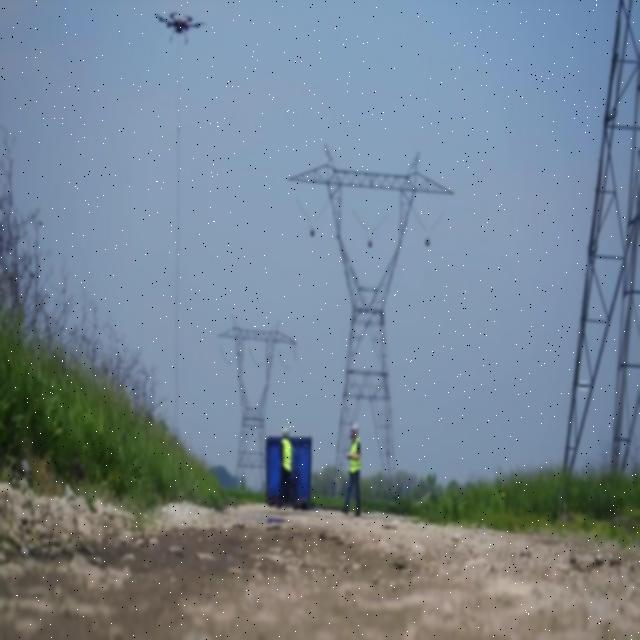UAV: (154, 12, 207, 46)
